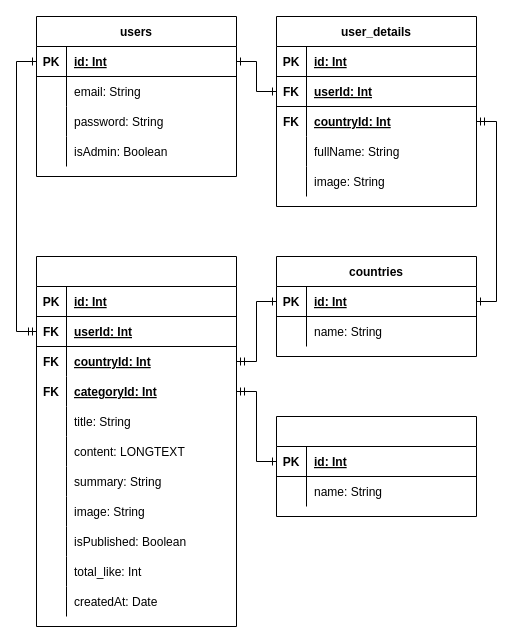
This 513x643 diagram has some shape labels left out. Each missing label, with the box of its shape:
categories: (276, 416, 476, 516)
news: (36, 256, 236, 626)
